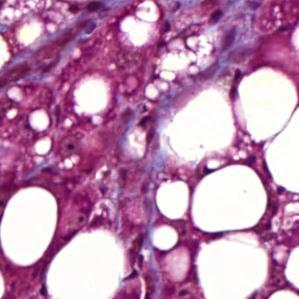steatosis: (2, 182, 59, 264), (236, 67, 295, 140), (155, 174, 192, 221)
